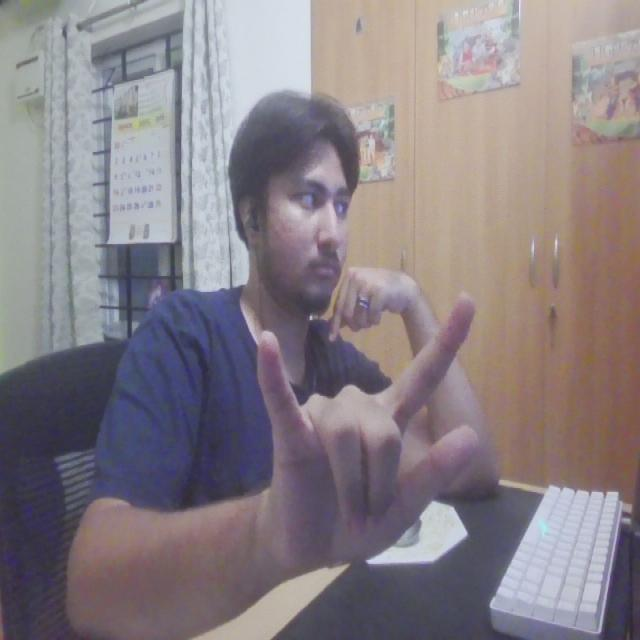iloveyou: (252, 284, 487, 583)
